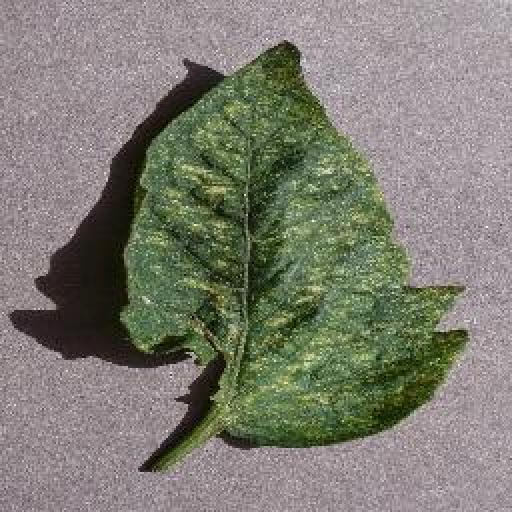disease_tomato: (120, 36, 466, 452)
